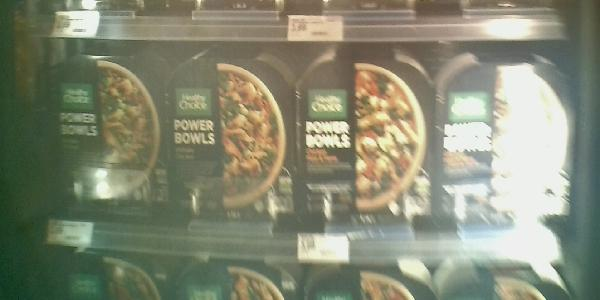pizza: (302, 57, 433, 229), (438, 53, 569, 222), (172, 56, 301, 221), (47, 46, 171, 214)
